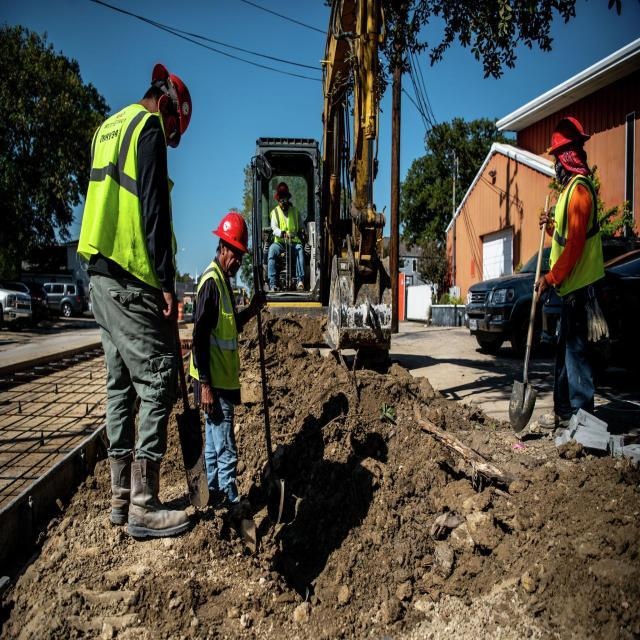reflective_jacket: (74, 103, 170, 286), (188, 260, 243, 394), (548, 169, 603, 291), (269, 204, 298, 251)
safety_helmet: (148, 60, 194, 142), (545, 112, 592, 153), (213, 209, 250, 252), (274, 182, 292, 198)
